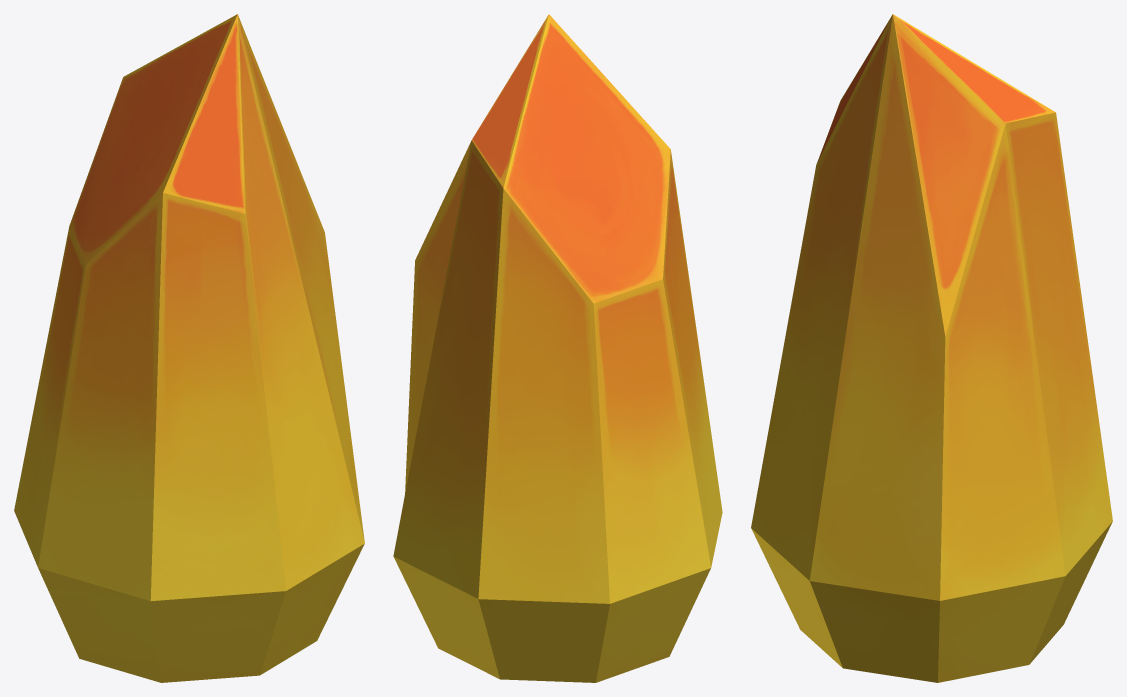
The model's file is Crystal big.fbx.
The picture shows the model from 3 angles, left to right: view 1: azimuth 30°, elevation 25°; view 2: azimuth 150°, elevation 25°; view 3: azimuth 270°, elevation 25°; orthographic projection. The views are drawn at different scales.
Visible parts, largest first — view 1: Crystal big; view 2: Crystal big; view 3: Crystal big.
Part boxes in pixels (left/top/right/bottom): Crystal big: left=14, top=14, right=364, bottom=682; Crystal big: left=393, top=14, right=722, bottom=682; Crystal big: left=751, top=14, right=1112, bottom=682.
Size of the model in its own units: 20.36 by 38.94 by 20.36.
